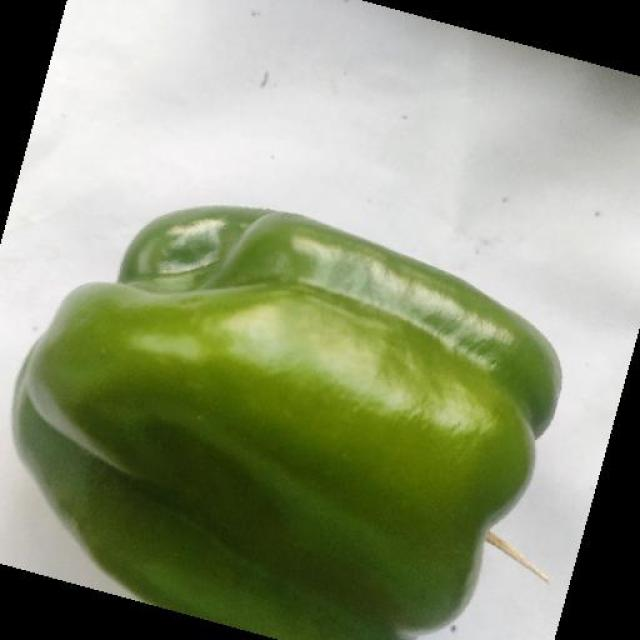Fresh_Capsicum: (40, 215, 533, 640)
